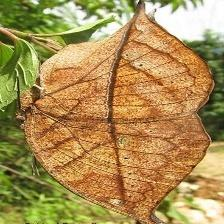butterfly: (20, 3, 215, 224)
